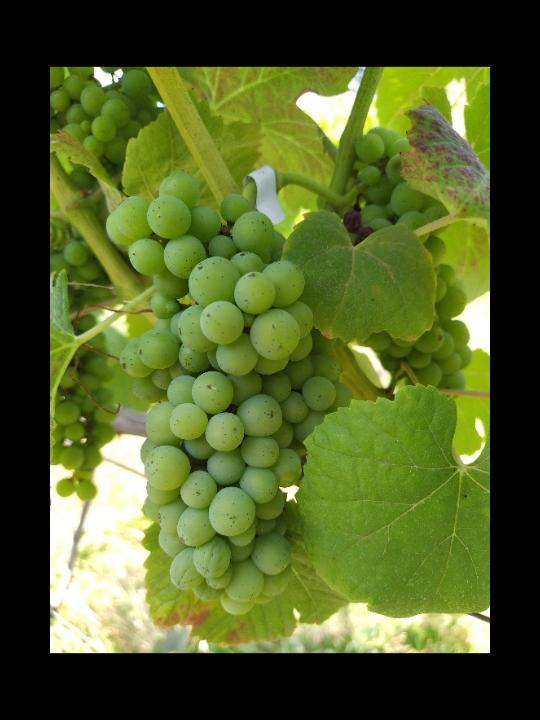grape: (105, 169, 358, 621)
